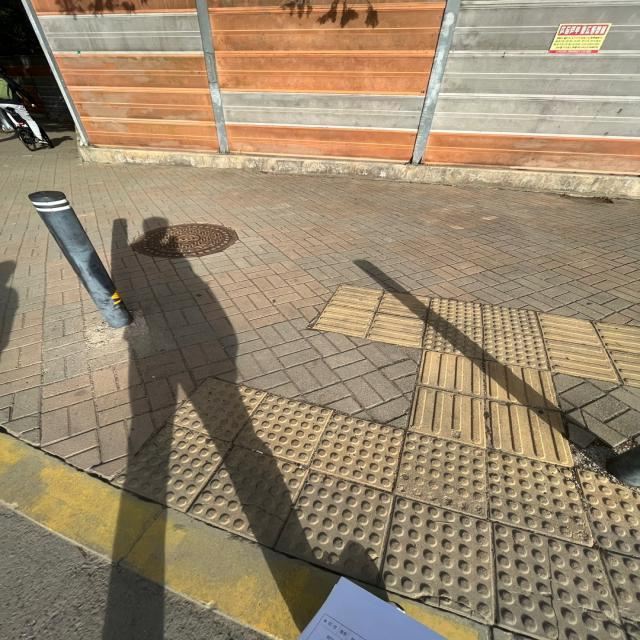Sewer Cover: (108, 204, 256, 273)
